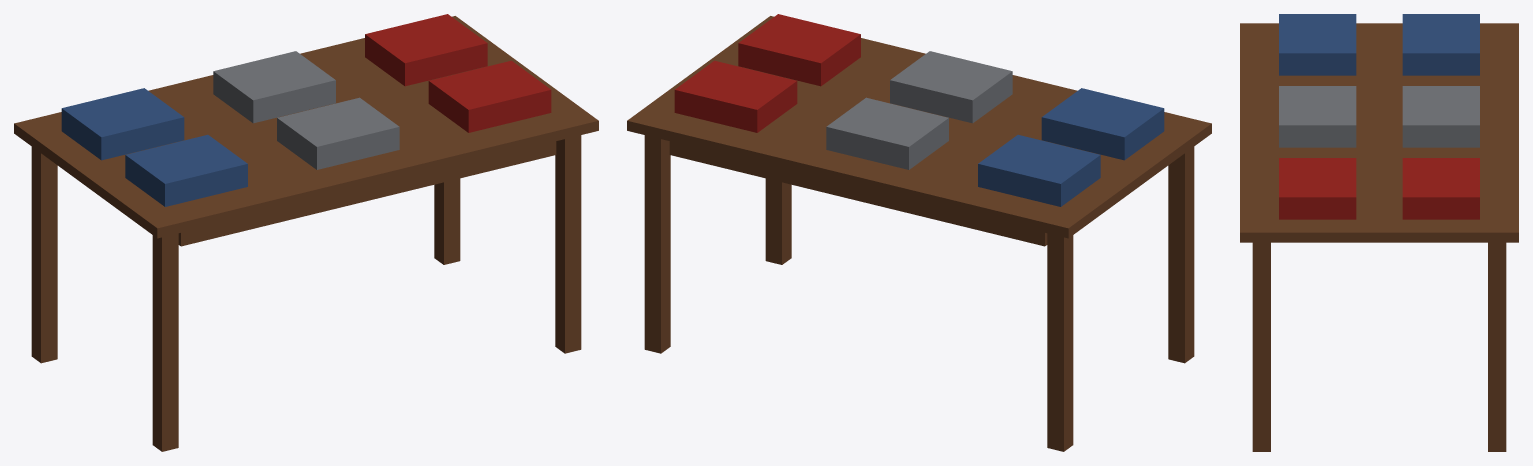
Rendered from retail.shop.display_table.glb.
The picture shows the model from 3 angles, left to right: view 1: azimuth 30°, elevation 25°; view 2: azimuth 150°, elevation 25°; view 3: azimuth 270°, elevation 25°; orthographic projection. The views are drawn at different scales.
Visible parts, largest first — view 1: main__hardwood, main__fabric_blue, main__fabric_red, main__fabric_grey; view 2: main__hardwood, main__fabric_blue, main__fabric_red, main__fabric_grey; view 3: main__hardwood, main__fabric_blue, main__fabric_grey, main__fabric_red.
Boxes of the visible parts, <box> form: main__hardwood: <box>14,16,598,451</box>; main__fabric_blue: <box>61,88,247,206</box>; main__fabric_red: <box>365,14,551,132</box>; main__fabric_grey: <box>213,51,399,169</box>; main__hardwood: <box>627,16,1211,451</box>; main__fabric_blue: <box>978,88,1164,206</box>; main__fabric_red: <box>674,14,860,132</box>; main__fabric_grey: <box>826,51,1012,169</box>; main__hardwood: <box>1240,23,1518,451</box>; main__fabric_blue: <box>1279,14,1479,75</box>; main__fabric_grey: <box>1279,86,1479,147</box>; main__fabric_red: <box>1279,158,1479,219</box>.
Size of the model in its own units: 1.6 by 0.88 by 0.9.
